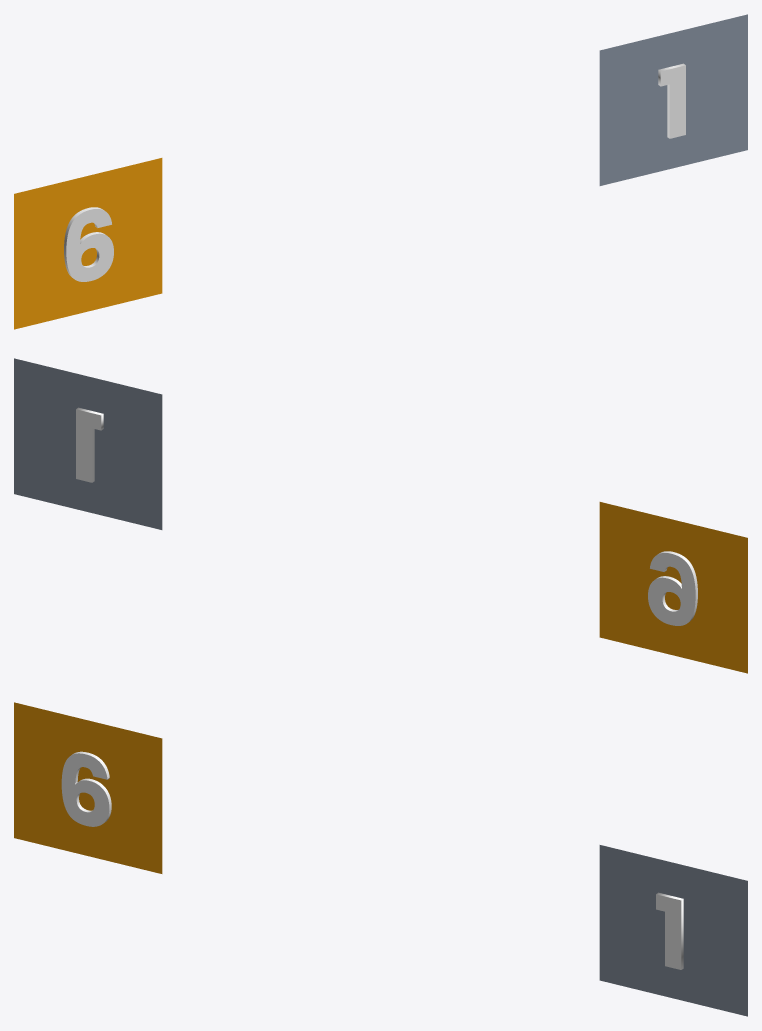
Rendered from sayi5.gltf.
3 renders of one model, top to bottom at view 1: azimuth 30°, elevation 25°; view 2: azimuth 150°, elevation 25°; view 3: azimuth 330°, elevation 25°, orthographic.
Parts seen in each view (by area): view 1: Plane.023, Plane.022, Text.073, Text.074; view 2: Plane.023, Plane.022, Text.073, Text.074; view 3: Plane.023, Plane.022, Text.073, Text.074.
Part boxes in pixels (box(x1,y1,x2,y2)): Plane.023: box(599, 14, 747, 185); Plane.022: box(14, 158, 162, 329); Text.073: box(64, 207, 113, 281); Text.074: box(658, 63, 685, 138); Plane.023: box(14, 358, 162, 529); Plane.022: box(599, 502, 747, 673); Text.073: box(648, 551, 697, 625); Text.074: box(76, 407, 103, 482); Plane.023: box(599, 845, 747, 1016); Plane.022: box(14, 702, 162, 873); Text.073: box(61, 751, 111, 826); Text.074: box(656, 892, 683, 969).
Size of the model in its own units: 0.396 by 0.0702 by 0.00435.
